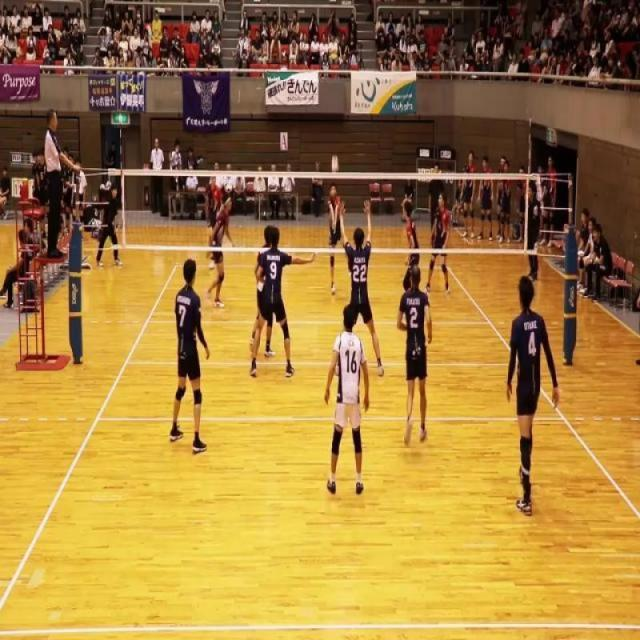volleyball: (330, 154, 339, 174)
